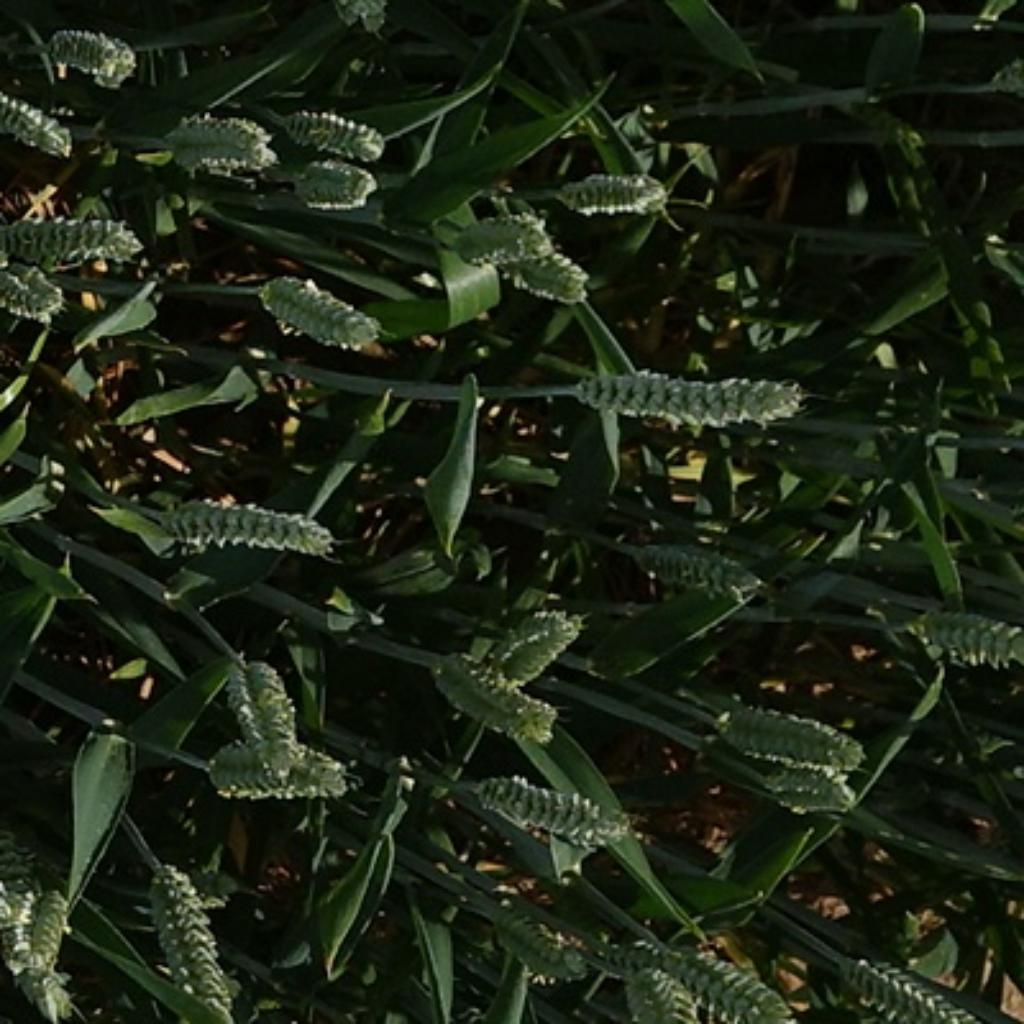0-0: (550, 348, 819, 442), (135, 860, 238, 1024), (143, 483, 355, 560), (467, 765, 649, 854), (419, 645, 565, 747), (659, 923, 803, 1023), (0, 890, 103, 1023), (248, 258, 391, 350), (704, 696, 867, 770), (473, 893, 606, 983), (220, 653, 314, 776), (842, 944, 983, 1024), (629, 527, 775, 604), (442, 197, 558, 284), (0, 212, 152, 278), (209, 743, 366, 806), (483, 593, 591, 678), (158, 102, 279, 176), (925, 596, 1024, 684), (737, 752, 870, 816), (486, 238, 588, 320), (607, 936, 702, 1024), (273, 97, 394, 163), (1, 818, 51, 974), (545, 163, 678, 220), (39, 25, 152, 89), (276, 145, 389, 207), (3, 85, 77, 167), (0, 250, 71, 325)
